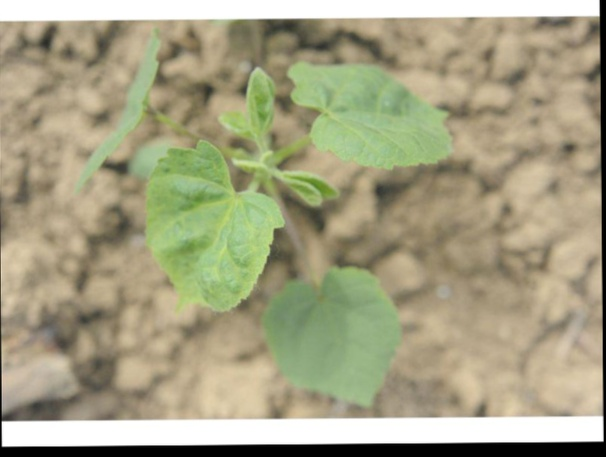velvet: (72, 27, 456, 404)
